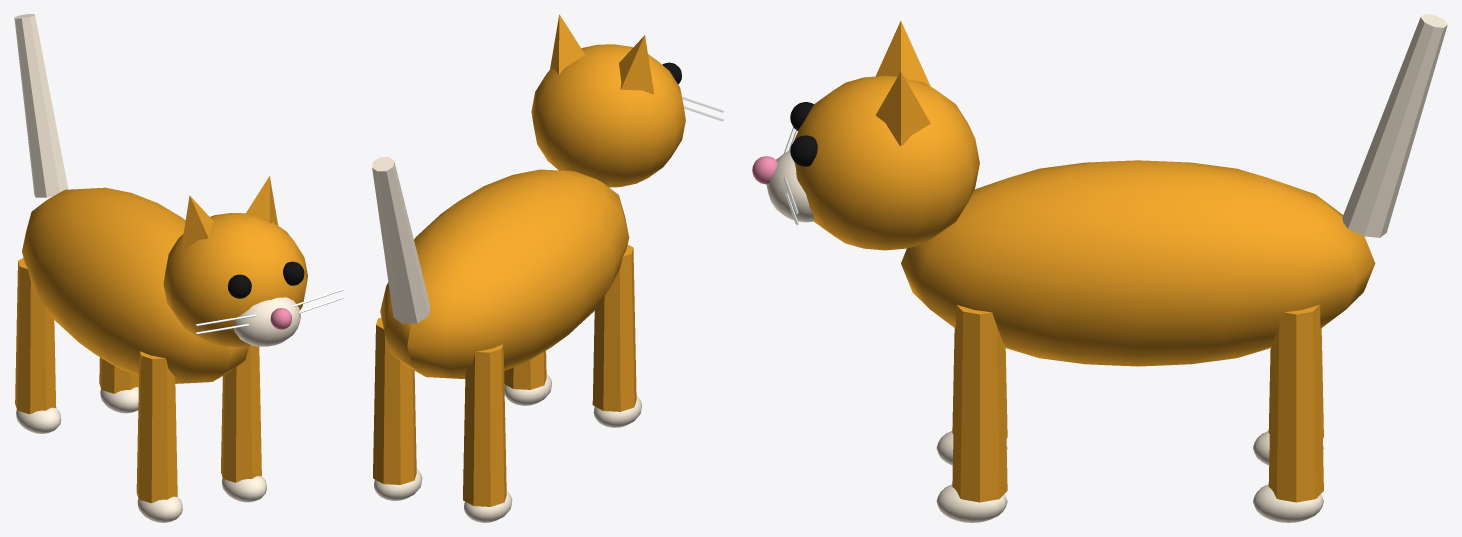
The model's file is homes_cat.glb.
The picture shows the model from 3 angles, left to right: view 1: azimuth 30°, elevation 25°; view 2: azimuth 150°, elevation 25°; view 3: azimuth 270°, elevation 25°; orthographic projection. The views are drawn at different scales.
Visible parts, largest first — view 1: Body.008, Leg_FR, Leg_BR, Leg_FL, Tail, Leg_BL; view 2: Body.008, Leg_BR, Leg_FR, Leg_BL, Tail, Leg_FL; view 3: Body.008, Leg_BL, Leg_FL, Tail, Leg_FR, Leg_BR.
Boxes of the visible parts, bbox=[...] form: Body.008: bbox=[22, 176, 343, 383]; Leg_FR: bbox=[136, 351, 182, 522]; Leg_BR: bbox=[15, 258, 61, 433]; Leg_FL: bbox=[221, 345, 266, 502]; Tail: bbox=[14, 14, 68, 197]; Leg_BL: bbox=[99, 357, 138, 413]; Body.008: bbox=[380, 14, 723, 378]; Leg_BR: bbox=[463, 344, 512, 522]; Leg_FR: bbox=[592, 244, 641, 427]; Leg_BL: bbox=[373, 317, 422, 500]; Tail: bbox=[372, 157, 430, 323]; Leg_FL: bbox=[504, 351, 551, 405]; Body.008: bbox=[752, 20, 1375, 366]; Leg_BL: bbox=[1253, 305, 1323, 522]; Leg_FL: bbox=[936, 305, 1007, 522]; Tail: bbox=[1342, 14, 1447, 237]; Leg_FR: bbox=[936, 328, 1007, 465]; Leg_BR: bbox=[1253, 328, 1323, 465].
Size of the model in its own units: 0.224 by 0.5309 by 0.7036.
